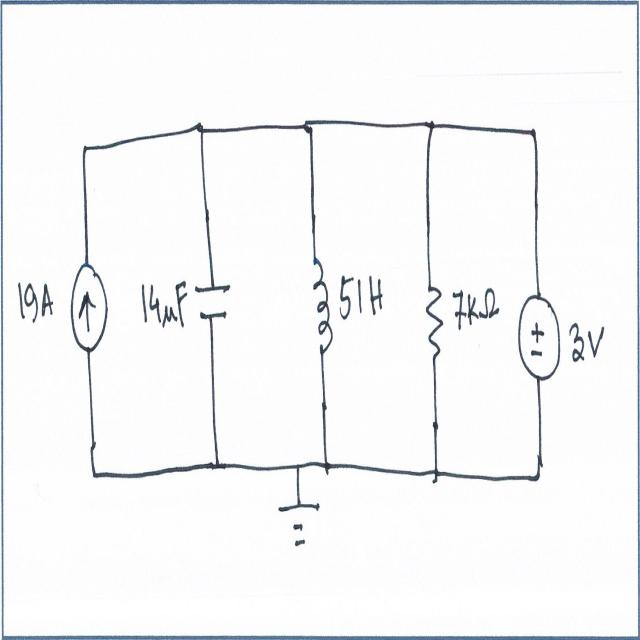capacitor: (191, 277, 236, 324)
current_source: (70, 258, 112, 356)
ground: (274, 500, 326, 554)
inductor: (308, 250, 336, 368)
resistor: (419, 270, 448, 367)
voltage_source: (517, 290, 564, 387)
